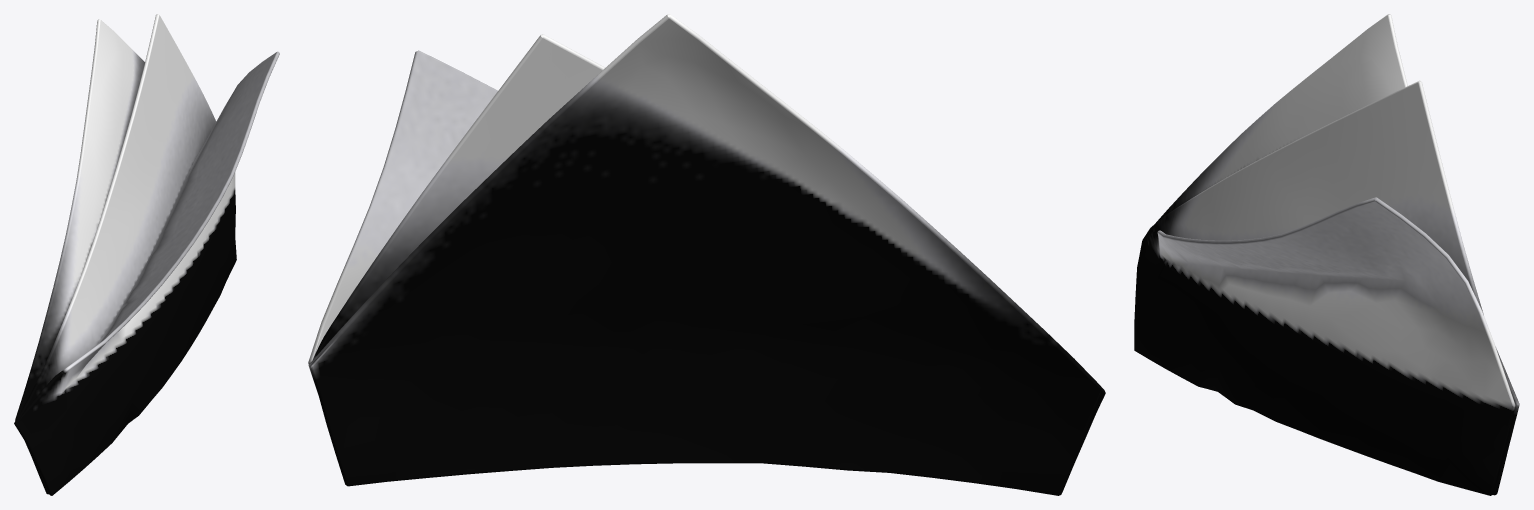
Rendered from shoujuan.FBX.
3 views of the same model, side by side, from view 1: azimuth 30°, elevation 25°; view 2: azimuth 150°, elevation 25°; view 3: azimuth 270°, elevation 25° (orthographic). The views are drawn at different scales.
Visible parts, largest first — view 1: default012; view 2: default012; view 3: default012.
Part boxes in pixels (x1,y1,x2,y2): default012: [14, 14, 279, 495]; default012: [308, 14, 1105, 495]; default012: [1134, 14, 1519, 495].
Bounding box in the file's own units: 5.77 × 5.27 × 4.33.
